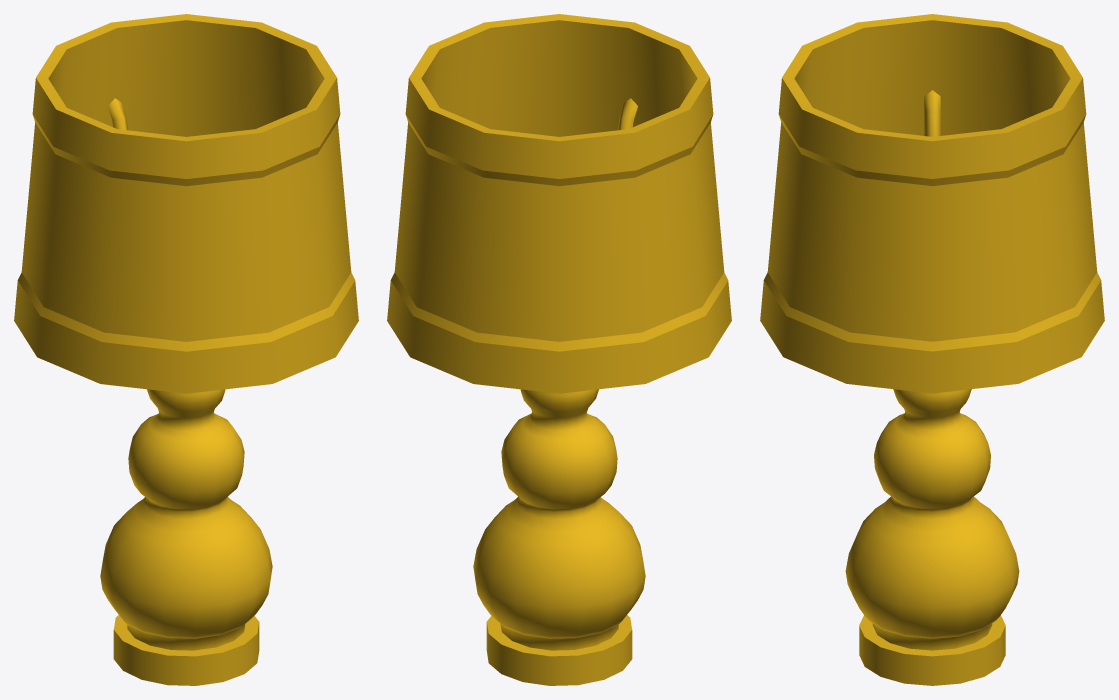
Rendered from CTS_E_Lamp.fbx.
3 views of the same model, side by side, from view 1: azimuth 30°, elevation 25°; view 2: azimuth 150°, elevation 25°; view 3: azimuth 270°, elevation 25° (orthographic).
Parts seen in each view (by area): view 1: CTS_E_Lamp; view 2: CTS_E_Lamp; view 3: CTS_E_Lamp.
Part boxes in pixels (left/top/right/bottom): CTS_E_Lamp: left=14, top=14, right=358, bottom=685; CTS_E_Lamp: left=387, top=14, right=731, bottom=685; CTS_E_Lamp: left=760, top=14, right=1104, bottom=685.
Bounding box in the file's own units: 39.3 × 72.62 × 39.3.
